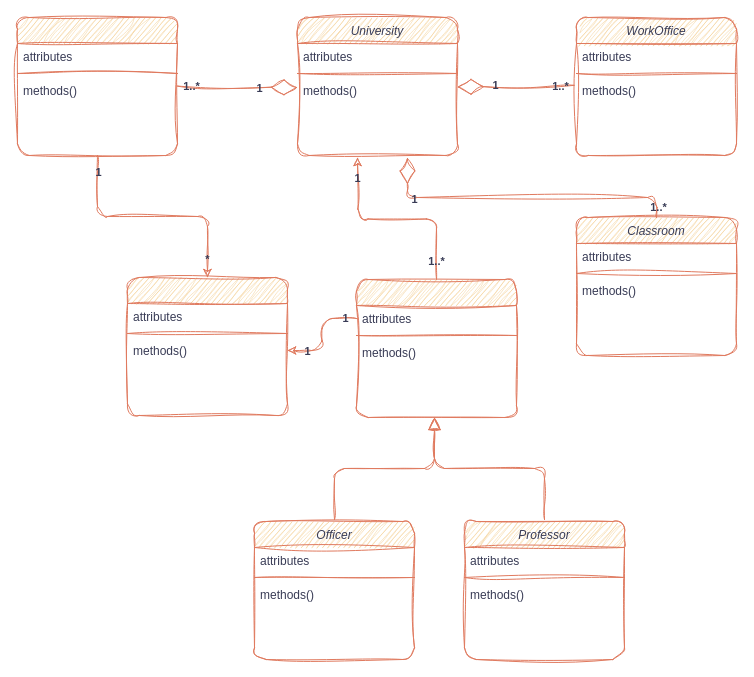
The diagram is 754 pixels wide and 677 high, and some of its shapes have lost their labels. The shapes that lost their labels are listed below. From the top down, each one's box as (x1, y1, x2, y2) in pixels, then its label:
(16, 16, 178, 156): Department
(126, 276, 288, 416): Office
(356, 278, 516, 418): Employee
